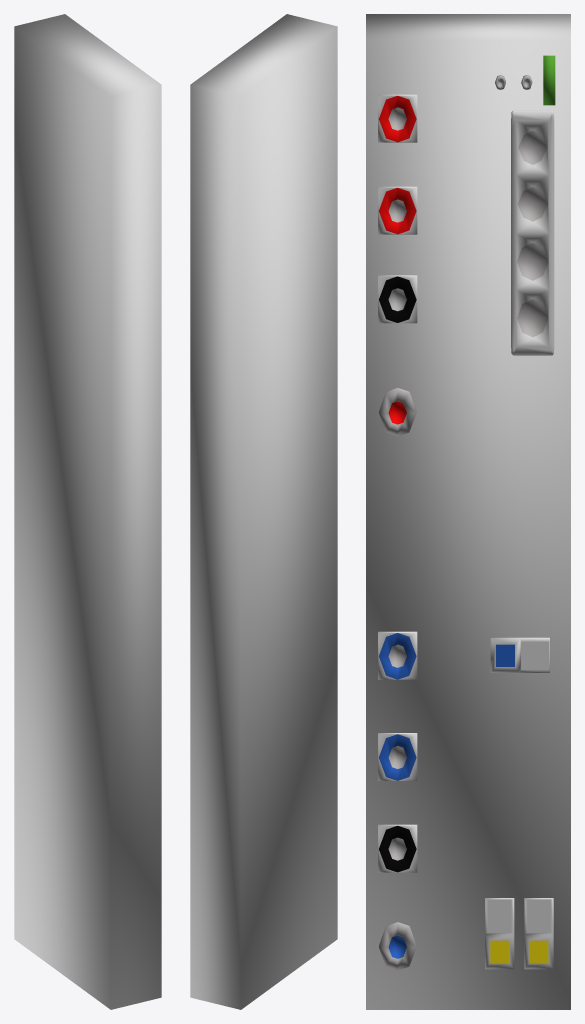
The picture shows the model from 3 angles, left to right: view 1: azimuth 30°, elevation 25°; view 2: azimuth 150°, elevation 25°; view 3: azimuth 270°, elevation 25°; orthographic projection. The views are drawn at different scales.
Visible parts, largest first — view 1: Cube; view 2: Cube; view 3: Cube.
Boxes of the visible parts, bbox=[...] form: Cube: bbox=[14, 14, 161, 1009]; Cube: bbox=[190, 14, 337, 1009]; Cube: bbox=[366, 14, 570, 1009].
Size of the model in its own units: 7.82 by 128 by 24.58.
